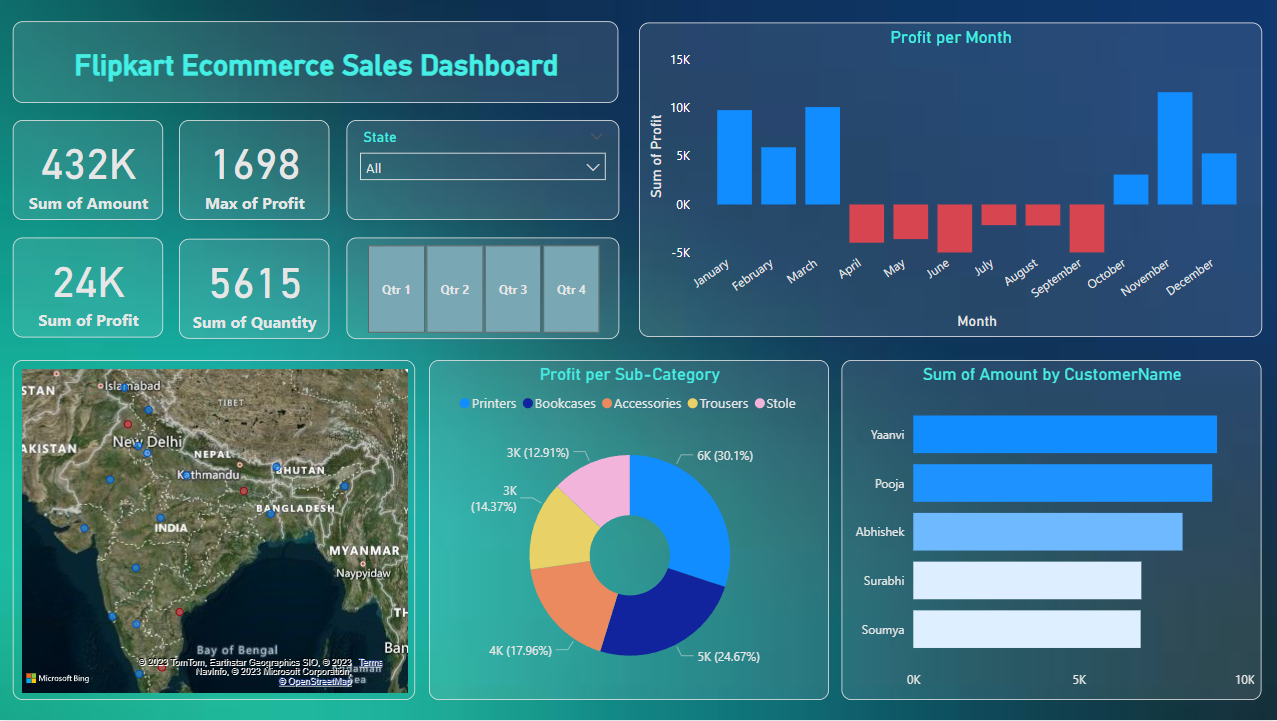

The page's visual inventory and layout, read from the dashboard file:
{"tool":"powerbi","page":{"name":"Page 1","canvas":[1280,720],"ordinal":0},"visuals":[{"type":"columnChart","title":"Profit per Month","fields":{"Category":["List of Orders.Order Date.Variation.Date Hierarchy.Month"],"Y":["Order Details.Profit"]},"box":[640,22.9,622.9,314.3],"z":0},{"type":"card","fields":{"Values":["Order Details.Amount"]},"box":[14.3,120,150,100],"z":1000},{"type":"card","fields":{"Values":["Order Details.Profit"]},"box":[180,120,150,100],"z":2000},{"type":"card","fields":{"Values":["Order Details.Quantity"]},"box":[180,238.6,150,100],"z":3000},{"type":"card","fields":{"Values":["Order Details.Profit"]},"box":[14.3,237.1,150,100],"z":4000},{"type":"map","title":"State Wise Representation","fields":{"Category":["List of Orders.State"]},"box":[14.3,360,402,340],"z":5000},{"type":"donutChart","title":"Profit per Sub-Category","fields":{"Category":["Order Details.Sub-Category"],"Y":["Order Details.Profit"]},"box":[430,360,400,340],"z":6000},{"type":"barChart","fields":{"Category":["List of Orders.CustomerName"],"Y":["Order Details.Amount"]},"box":[842.9,360,420,340],"z":7000},{"type":"slicer","fields":{"Values":["List of Orders.Order Date.Variation.Date Hierarchy.Quarter"]},"box":[347.1,237.1,272.9,101.4],"z":8000},{"type":"slicer","fields":{"Values":["List of Orders.State"]},"box":[347.1,120,272.9,100],"z":9000},{"type":"textbox","box":[14.3,21.4,605.7,81.4],"z":10000}]}

Visuals, with their boxes in screenshot pixels (x1, y1, x2, y2), scaled from the page's 1280x720 canvas onto the 1277x721 screenshot:
"Profit per Month" columnChart: 638,23,1260,338
card - Order Details.Amount: 14,120,164,220
card - Order Details.Profit: 180,120,329,220
card - Order Details.Quantity: 180,239,329,339
card - Order Details.Profit: 14,237,164,338
"State Wise Representation" map: 14,360,415,701
"Profit per Sub-Category" donutChart: 429,360,828,701
barChart - List of Orders.CustomerName x Order Details.Amount: 841,360,1260,701
slicer - List of Orders.Order Date.Variation.Date Hierarchy.Quarter: 346,237,619,339
slicer - List of Orders.State: 346,120,619,220
textbox: 14,21,619,103
